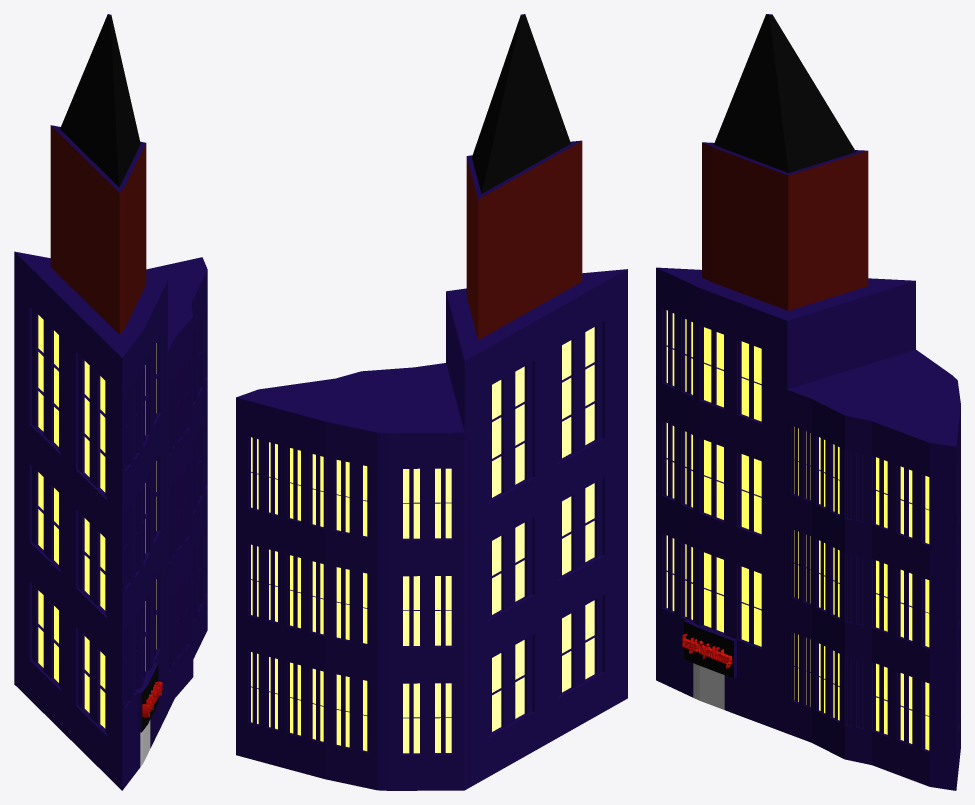
Rendered from everglade_city_stock_exchange.fbx.
3 renders of one model, left to right at view 1: azimuth 30°, elevation 25°; view 2: azimuth 150°, elevation 25°; view 3: azimuth 270°, elevation 25°, orthographic. The views are drawn at different scales.
Parts seen in each view (by area): view 1: Plane, Text; view 2: Plane; view 3: Plane, Text.
Part boxes in pixels (bbox=[...]): Plane: bbox=[14, 14, 207, 790]; Text: bbox=[142, 681, 162, 717]; Plane: bbox=[236, 14, 627, 790]; Plane: bbox=[656, 14, 960, 790]; Text: bbox=[682, 634, 732, 668].
Size of the model in its own units: 414 by 1199 by 482.
